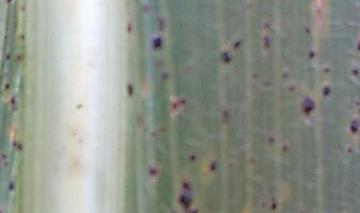tarspot: (176, 179, 199, 213), (298, 93, 315, 119), (348, 115, 360, 140), (150, 33, 163, 51), (156, 11, 166, 34), (219, 50, 232, 67), (170, 98, 188, 110), (125, 81, 135, 99), (9, 140, 25, 151), (262, 34, 272, 51), (262, 20, 274, 34), (231, 38, 243, 51), (349, 66, 360, 79), (260, 79, 273, 90), (321, 86, 331, 99), (221, 106, 231, 119), (17, 29, 27, 42), (147, 166, 158, 177), (208, 160, 218, 172), (126, 21, 134, 36), (269, 199, 278, 212), (280, 69, 289, 82), (73, 101, 84, 111), (20, 2, 29, 14), (14, 53, 26, 62), (7, 180, 15, 193), (306, 50, 316, 60), (286, 84, 296, 94), (159, 72, 169, 82), (302, 26, 312, 35), (248, 155, 257, 165), (314, 6, 322, 17), (9, 94, 17, 105), (279, 142, 288, 151), (321, 66, 331, 74), (3, 80, 10, 91), (266, 135, 274, 144), (2, 159, 10, 168), (356, 38, 360, 55), (188, 152, 196, 160), (250, 72, 258, 79), (346, 146, 352, 155), (4, 53, 11, 60), (1, 153, 10, 158), (5, 1, 14, 5)
